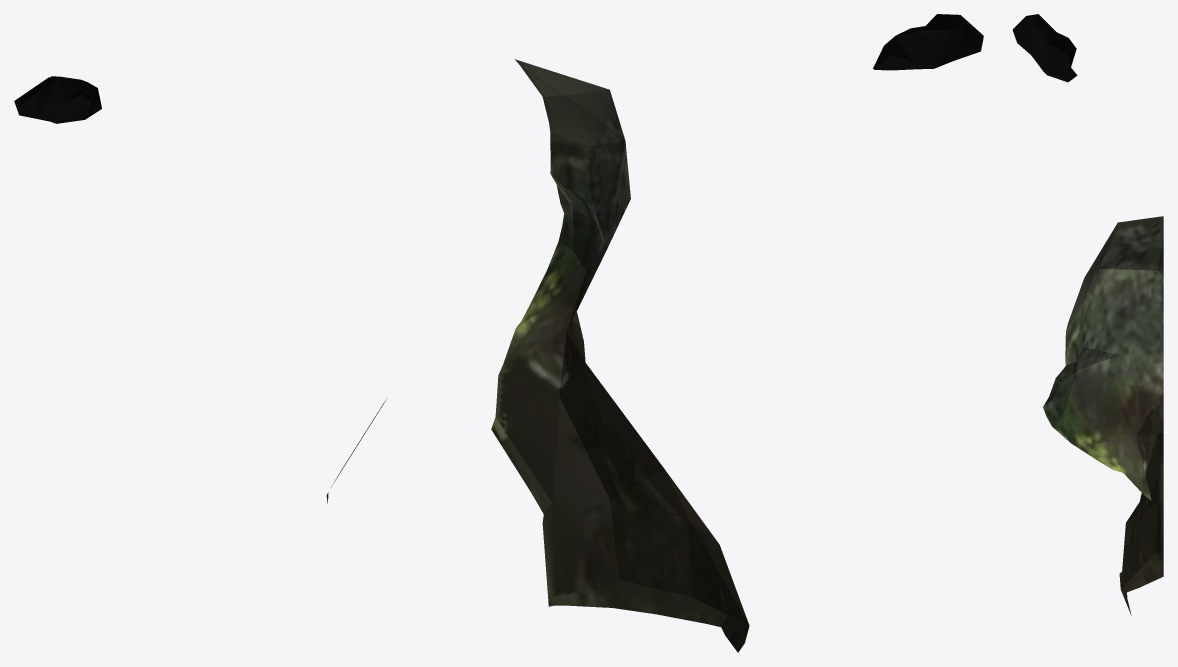
3 views of the same model, side by side, from view 1: azimuth 30°, elevation 25°; view 2: azimuth 150°, elevation 25°; view 3: azimuth 270°, elevation 25° (orthographic). The views are drawn at different scales.
Bounding box in the file's own units: 3.33 × 4.67 × 1.27.
1 material, 1 textured.
